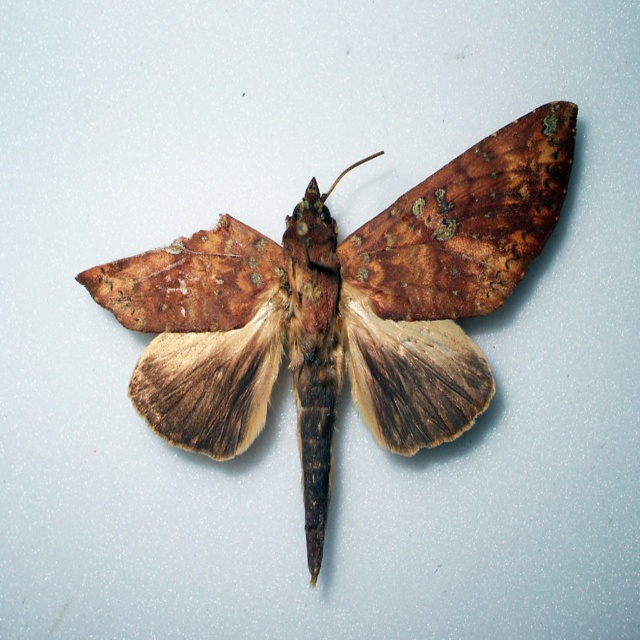Butterfly: (76, 125, 567, 573)
